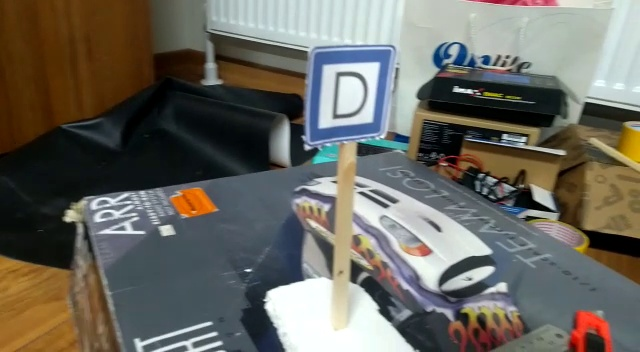durak: (315, 53, 382, 124)
